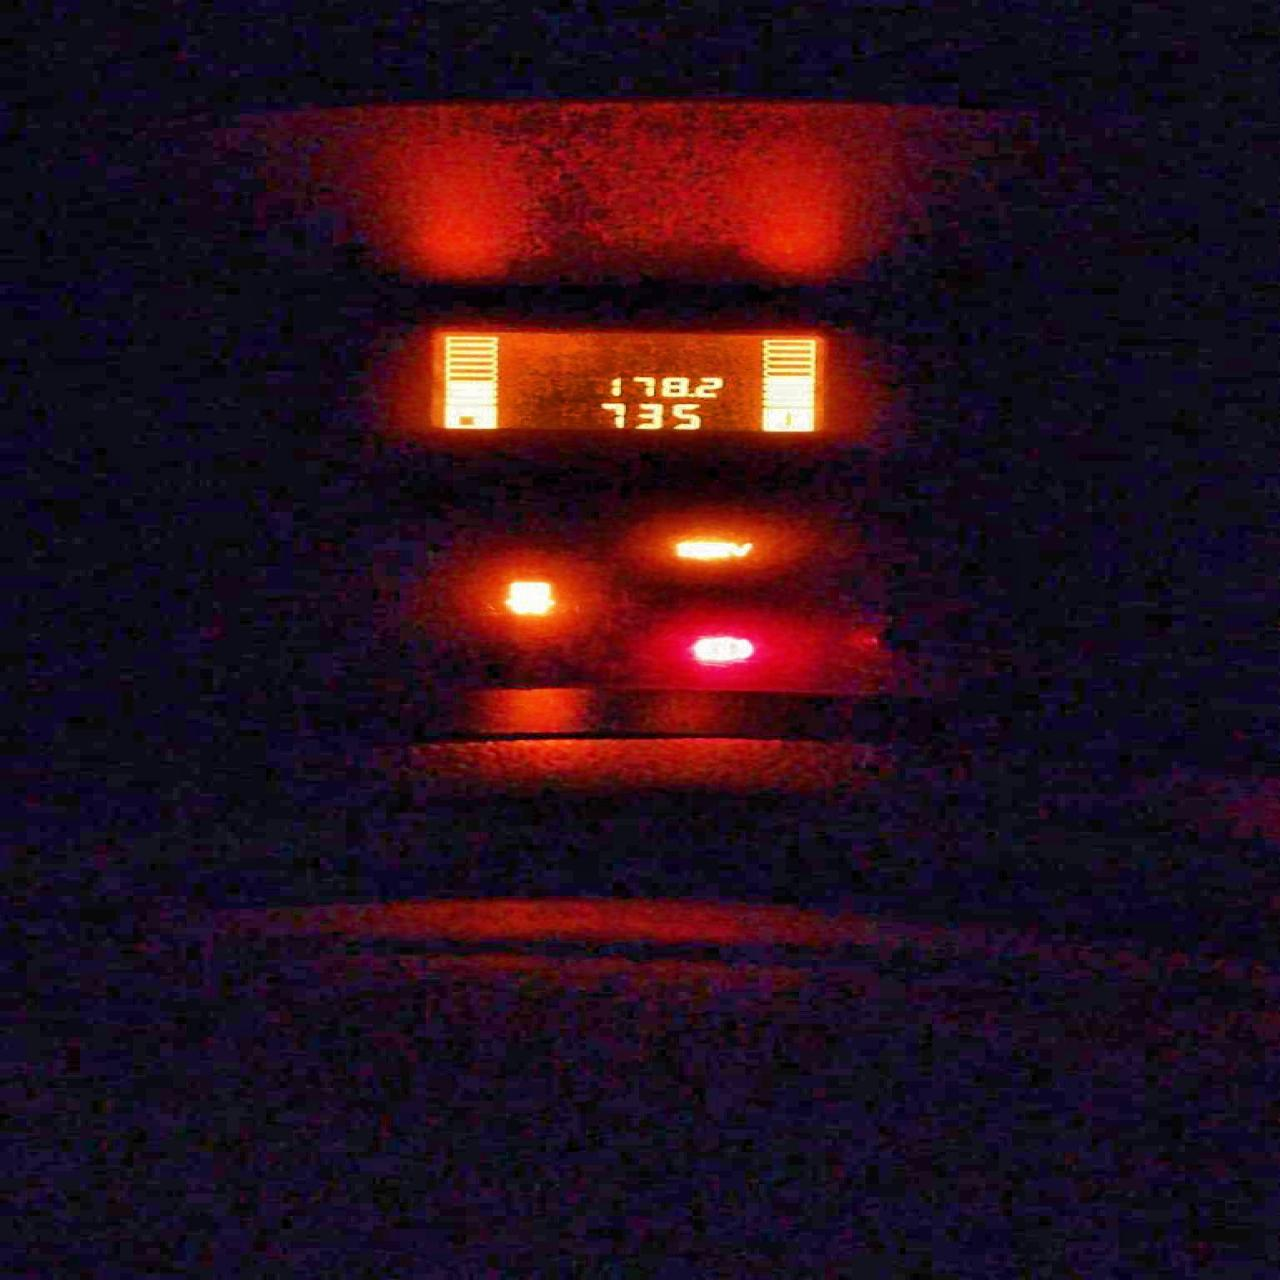-: (686, 392, 696, 397)
1: (610, 376, 622, 396)
2: (693, 376, 722, 397)
3: (633, 402, 662, 428)
5: (670, 402, 700, 429)
7: (598, 402, 626, 428), (629, 376, 654, 397)
8: (659, 377, 688, 396)
odometer: (417, 327, 836, 438)
